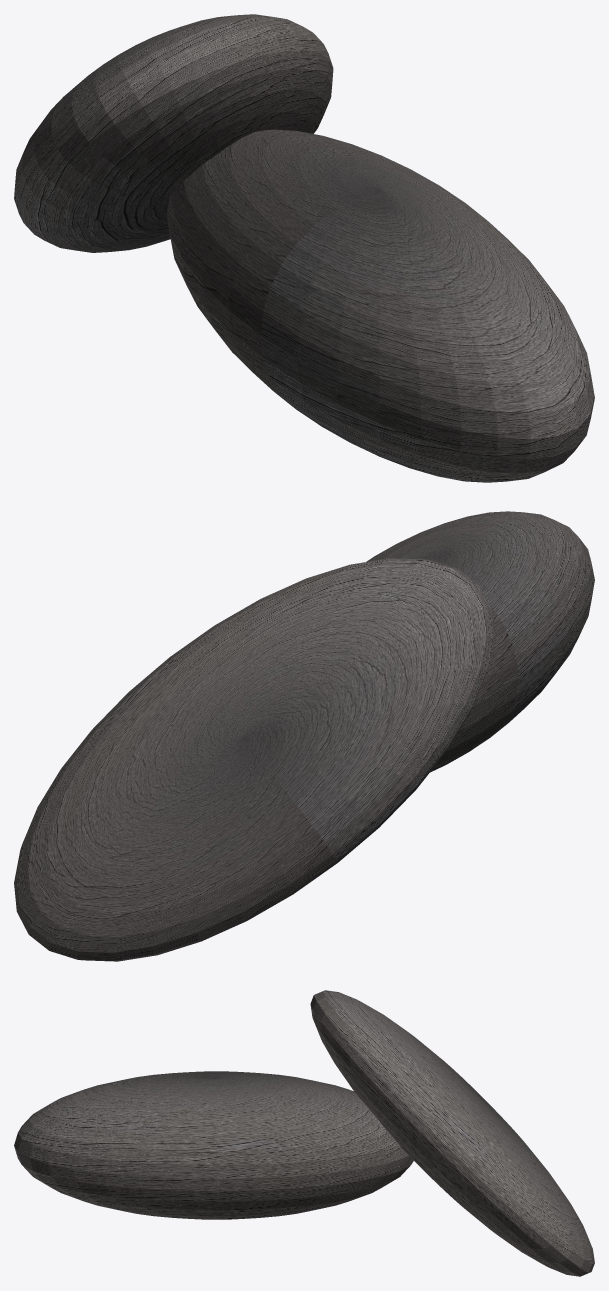
The model's file is rock.fbx.
3 views of the same model, one above another, from view 1: azimuth 30°, elevation 25°; view 2: azimuth 150°, elevation 25°; view 3: azimuth 270°, elevation 25° (orthographic). The views are drawn at different scales.
Parts seen in each view (by area): view 1: Sphere, Sphere.001; view 2: Sphere.001, Sphere; view 3: Sphere, Sphere.001.
Part boxes in pixels (box(x1,y1,x2,y2)): Sphere: box(166, 129, 594, 482); Sphere.001: box(14, 14, 333, 252); Sphere.001: box(14, 558, 493, 961); Sphere: box(366, 511, 594, 772); Sphere: box(14, 1071, 413, 1219); Sphere.001: box(310, 990, 594, 1276).
Size of the model in its own units: 114 by 103 by 249.
2 materials, 2 textured.
